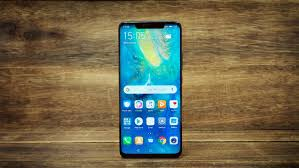huawei: (116, 17, 182, 157)
